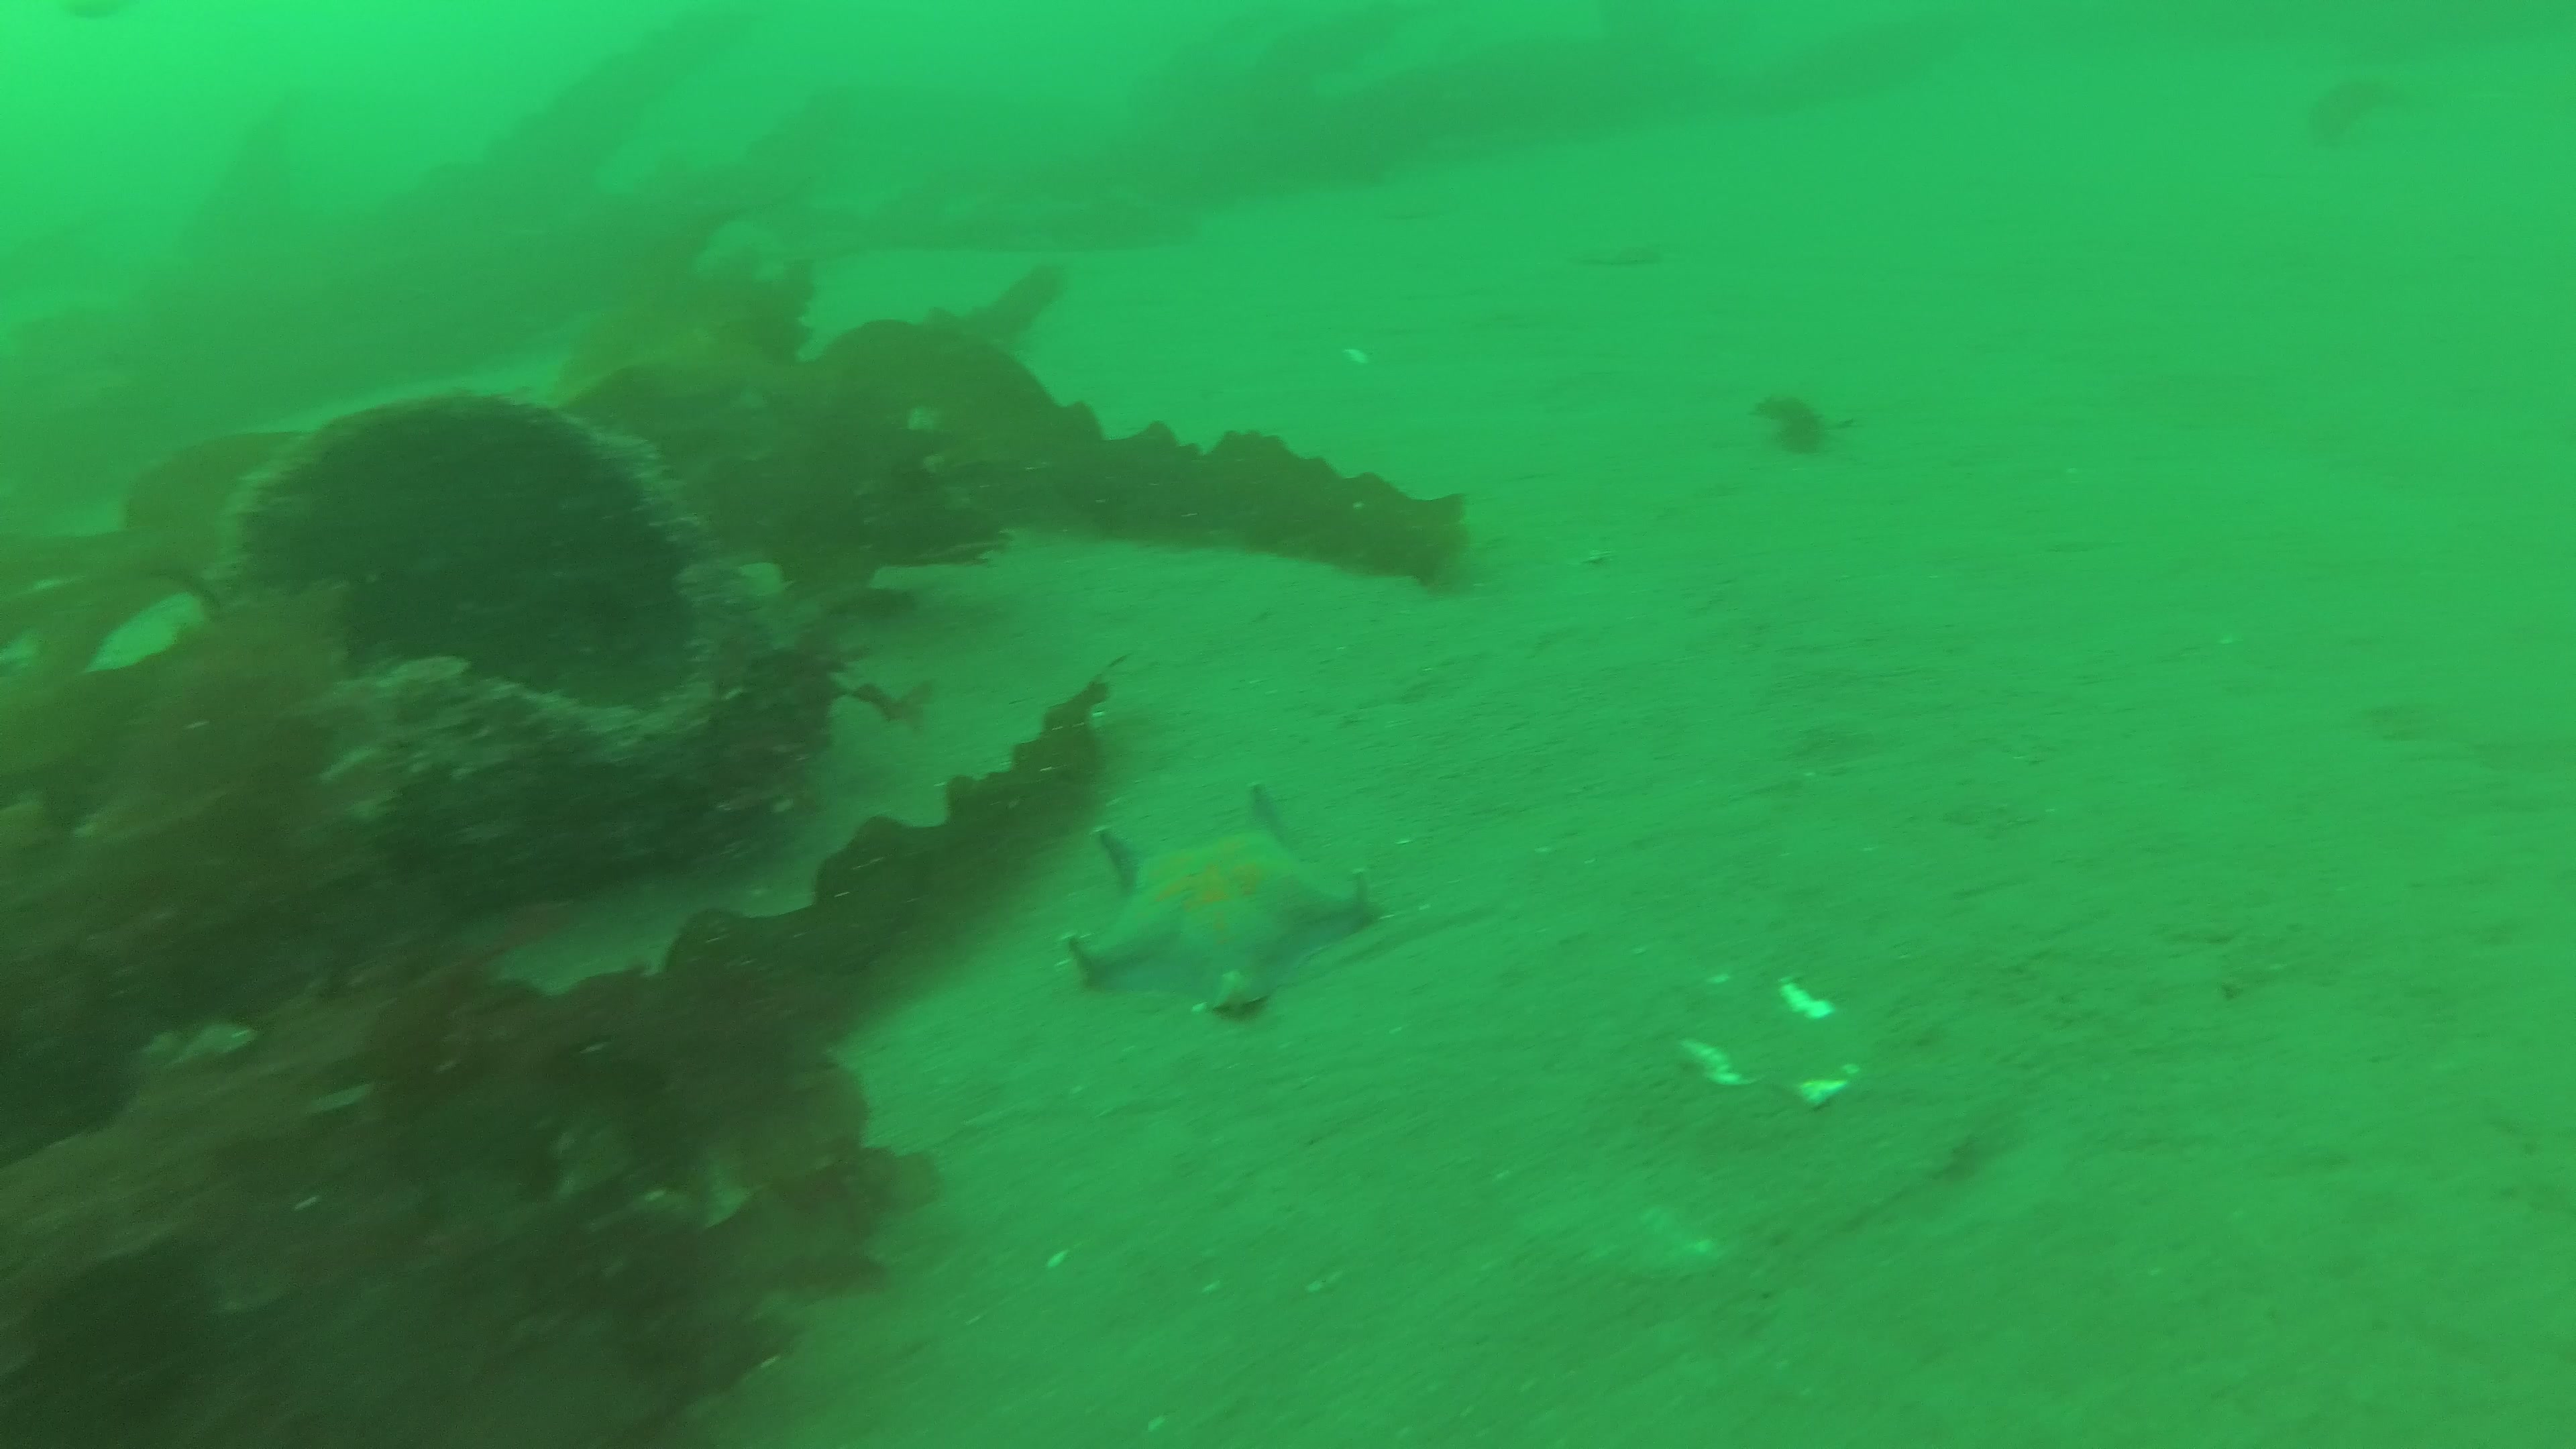starfish: (1062, 778, 1378, 1019)
